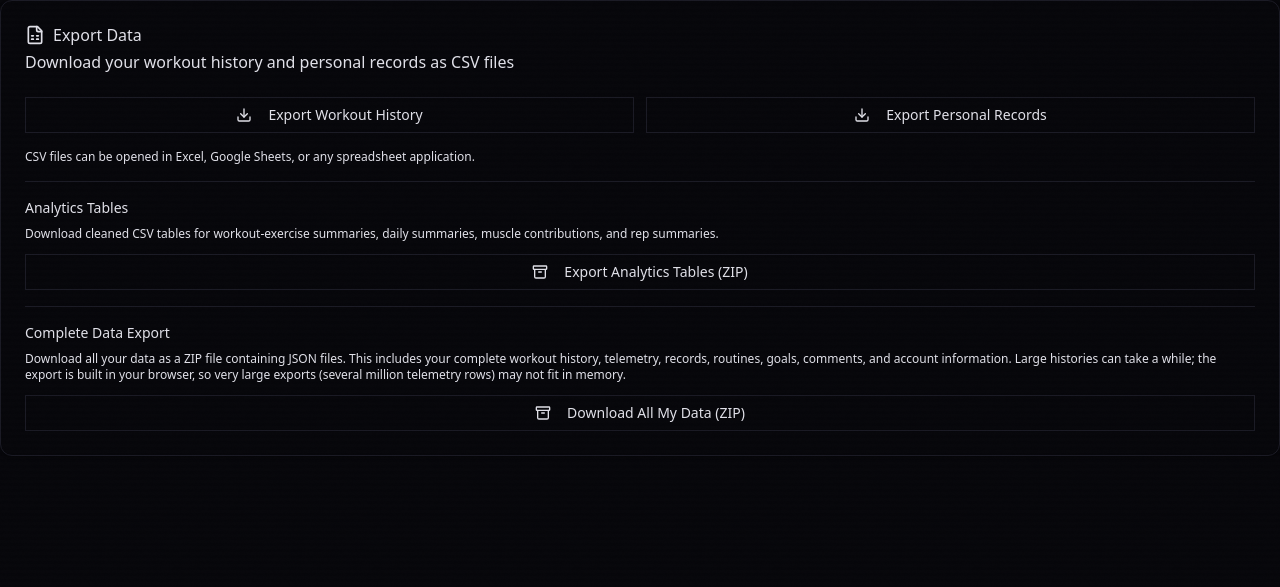
Scenario: ExportSection › offers cancel while exporting and reports a cancellation
The width and height of the screenshot is (1280, 587).
Click the button "Download All My Data (ZIP)" at (640, 413), box [25,395,1255,431]
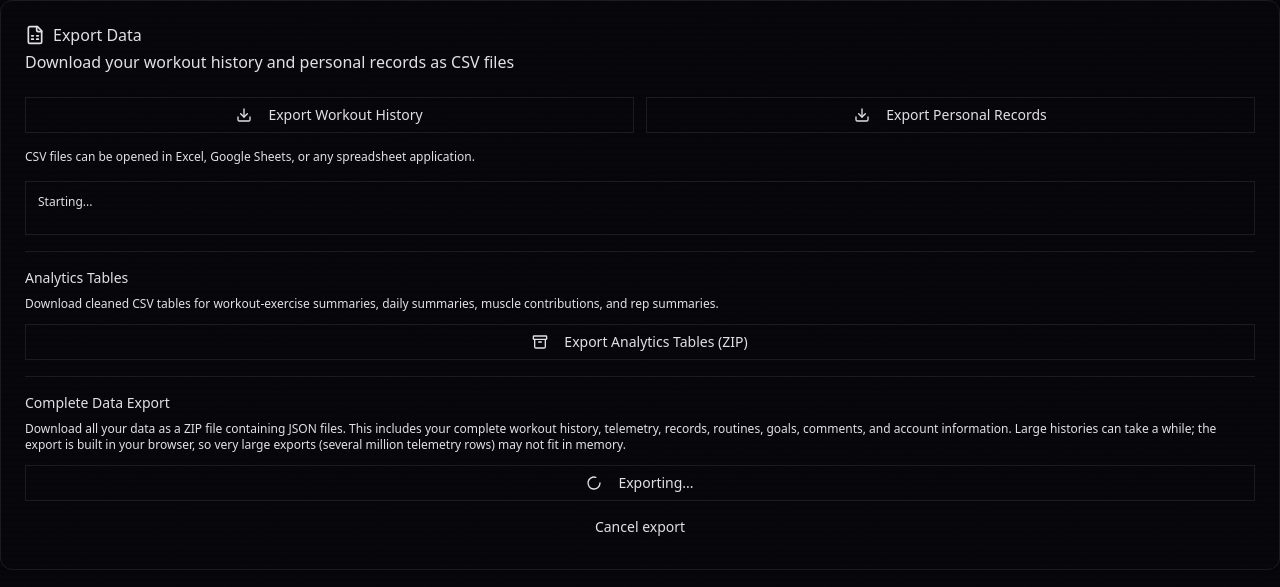
Check: the button "Exporting..." is disabled, box [25,465,1255,501]
Click the button "Cancel export" at (640, 527), box [25,509,1255,545]
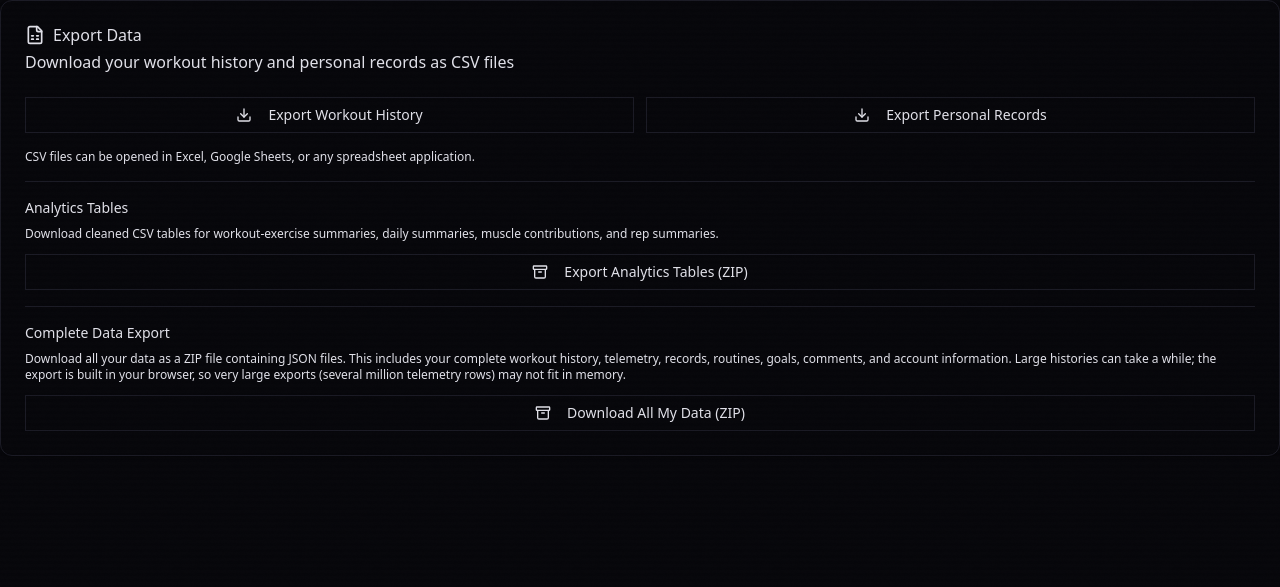
Check: the button "Download All My Data (ZIP)" is enabled, box [25,395,1255,431]
